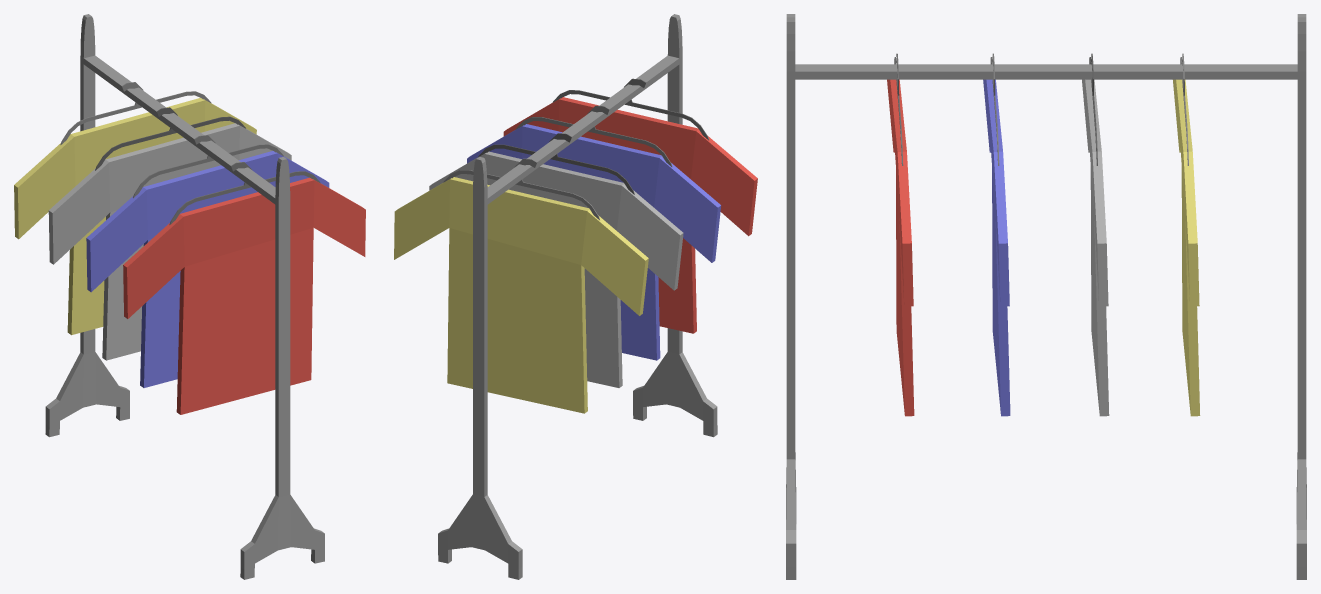
The model's file is hanging clothes 1.fbx.
The picture shows the model from 3 angles, left to right: view 1: azimuth 30°, elevation 25°; view 2: azimuth 150°, elevation 25°; view 3: azimuth 270°, elevation 25°; orthographic projection. The views are drawn at different scales.
Visible parts, largest first — view 1: Cube.008, Cube.001, Cube.005, Cube.004, Cube, Cube.006, Cube.003, Cube.002, Cube.007; view 2: Cube, Cube.001, Cube.004, Cube.005, Cube.008, Cube.007, Cube.002, Cube.006, Cube.003; view 3: Cube.001, Cube.005, Cube, Cube.004, Cube.008.
Part boxes in pixels (left/top/right/bottom): Cube.008: left=123, top=177, right=365, bottom=414; Cube.001: left=45, top=14, right=324, bottom=579; Cube.005: left=86, top=151, right=329, bottom=387; Cube.004: left=48, top=123, right=291, bottom=360; Cube: left=14, top=98, right=256, bottom=335; Cube.006: left=133, top=135, right=283, bottom=198; Cube.003: left=60, top=82, right=211, bottom=144; Cube.002: left=95, top=107, right=245, bottom=170; Cube.007: left=169, top=162, right=320, bottom=224; Cube: left=394, top=177, right=648, bottom=413; Cube.001: left=438, top=14, right=717, bottom=579; Cube.004: left=429, top=151, right=683, bottom=387; Cube.005: left=467, top=124, right=721, bottom=360; Cube.008: left=503, top=97, right=757, bottom=333; Cube.007: left=552, top=78, right=708, bottom=140; Cube.002: left=478, top=133, right=634, bottom=194; Cube.006: left=515, top=105, right=672, bottom=167; Cube.003: left=443, top=158, right=599, bottom=220; Cube.001: left=786, top=14, right=1306, bottom=579; Cube.005: left=983, top=79, right=1010, bottom=416; Cube: left=1173, top=79, right=1200, bottom=416; Cube.004: left=1082, top=79, right=1109, bottom=416; Cube.008: left=887, top=79, right=914, bottom=416.
Size of the model in its own units: 279 by 447 by 392.
